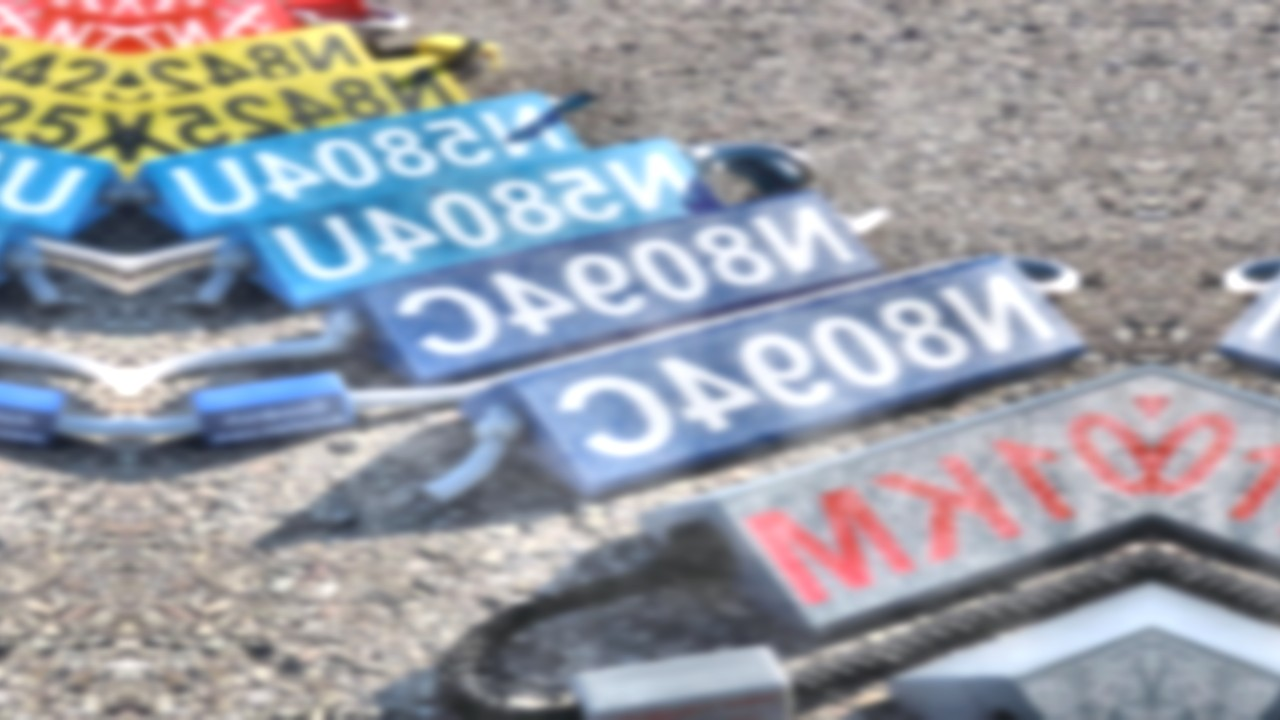chock: (455, 251, 1097, 501), (636, 361, 1148, 646), (317, 191, 886, 391), (217, 138, 723, 314), (130, 90, 592, 241), (128, 52, 487, 178), (886, 581, 1151, 720), (1156, 361, 1280, 646), (128, 21, 396, 105), (0, 90, 126, 241), (1207, 251, 1280, 501), (1153, 581, 1280, 720), (0, 52, 128, 178), (0, 21, 128, 105)
